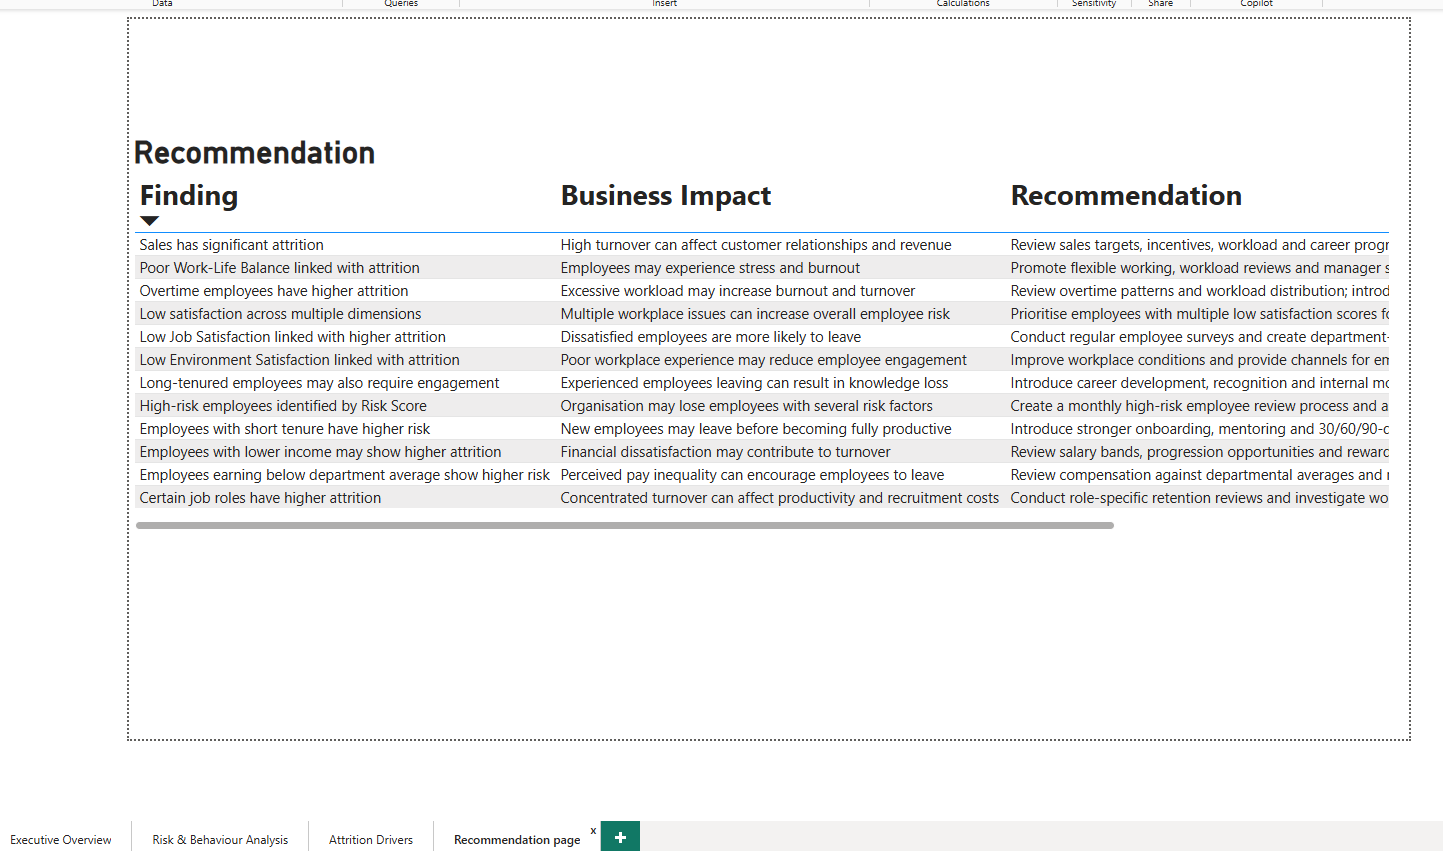

This screenshot's page, from the dashboard's own definition file:
{"tool":"powerbi","page":{"name":"Recommendation page","canvas":[1280,720],"ordinal":3},"visuals":[{"type":"tableEx","title":"Recommendation","fields":{"Values":["HR_Action_Plan.Finding","HR_Action_Plan.Business Impact","HR_Action_Plan.Recommendation"]},"box":[0,114.6,1265.4,401.2],"z":0}]}

Visuals, with their boxes on the page's 1280x720 design canvas (x1, y1, x2, y2). These are canvas units, not pixel positions in the 1443x851 screenshot, which may show the page scaled, cropped or inside an application window:
"Recommendation" tableEx: <region>0, 115, 1265, 516</region>
